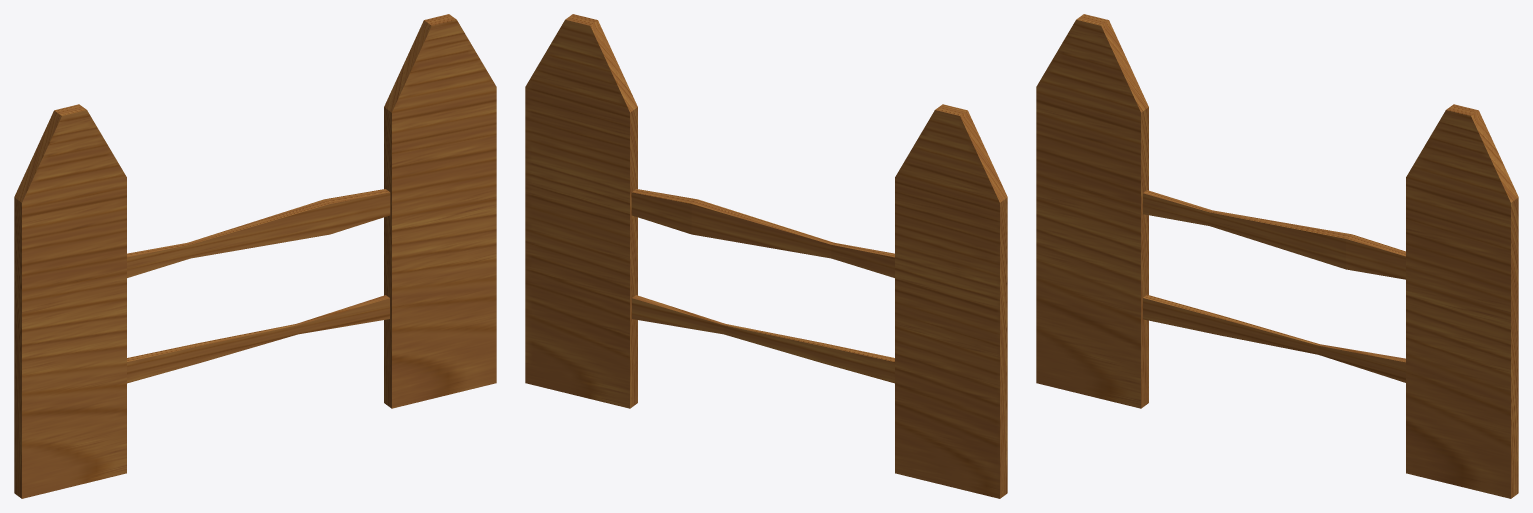
File: Valla 3_V1.fbx
3 views of the same model, side by side, from view 1: azimuth 30°, elevation 25°; view 2: azimuth 150°, elevation 25°; view 3: azimuth 330°, elevation 25° (orthographic).
Visible parts, largest first — view 1: Cube.014; view 2: Cube.014; view 3: Cube.014.
Part boxes in pixels (box(x1,y1,x2,y2)): Cube.014: box(14, 14, 496, 498); Cube.014: box(525, 14, 1007, 498); Cube.014: box(1036, 14, 1518, 498).
Bounding box in the file's own units: 336 × 252 × 9.58.
1 material, 1 textured.
